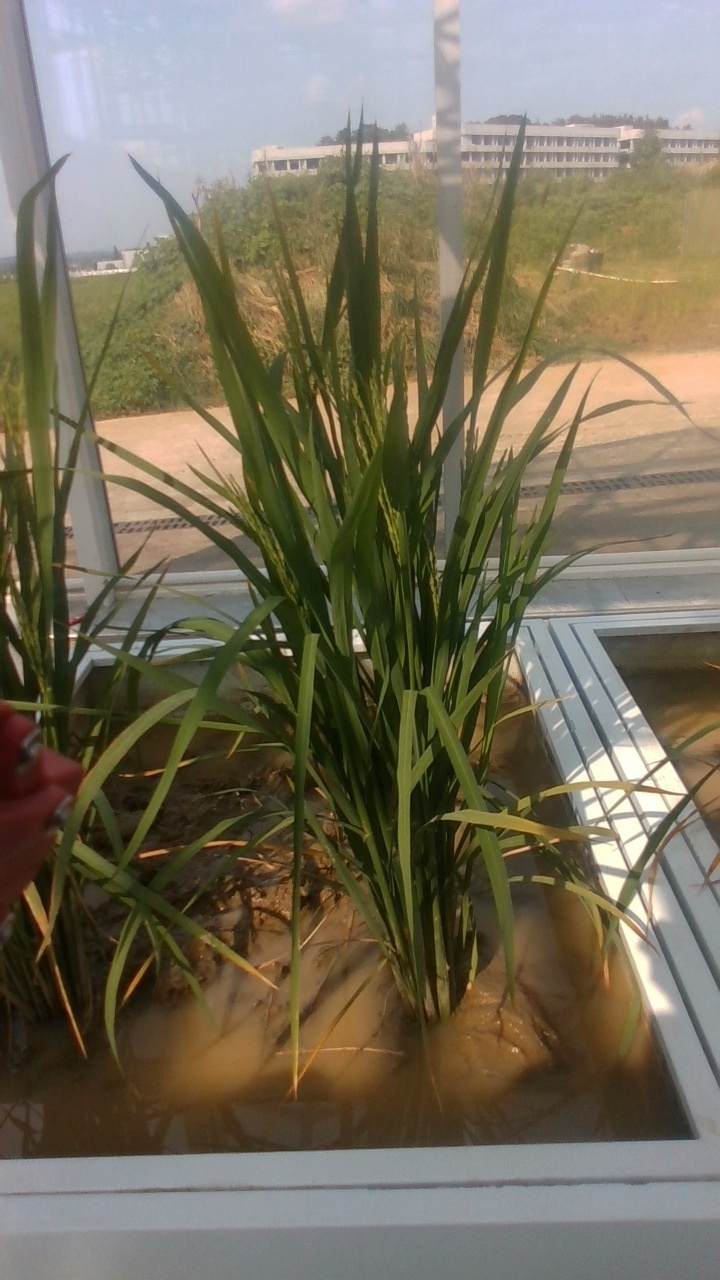rice_plant: (167, 145, 587, 1008)
